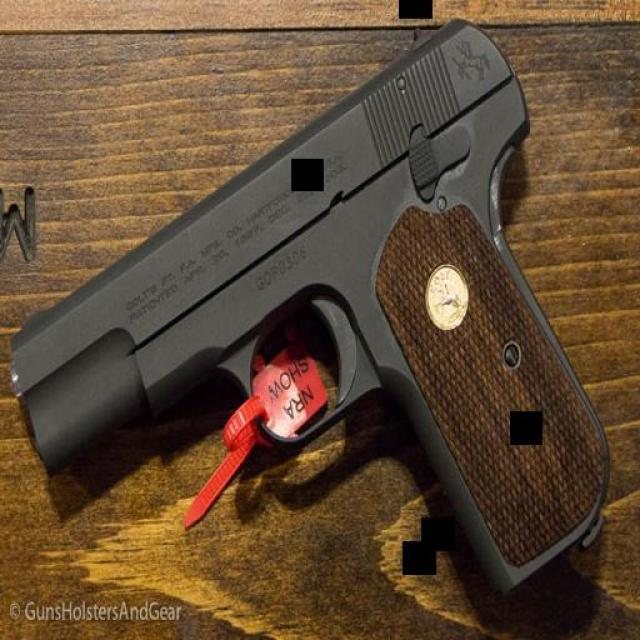gun: (6, 24, 609, 590)
